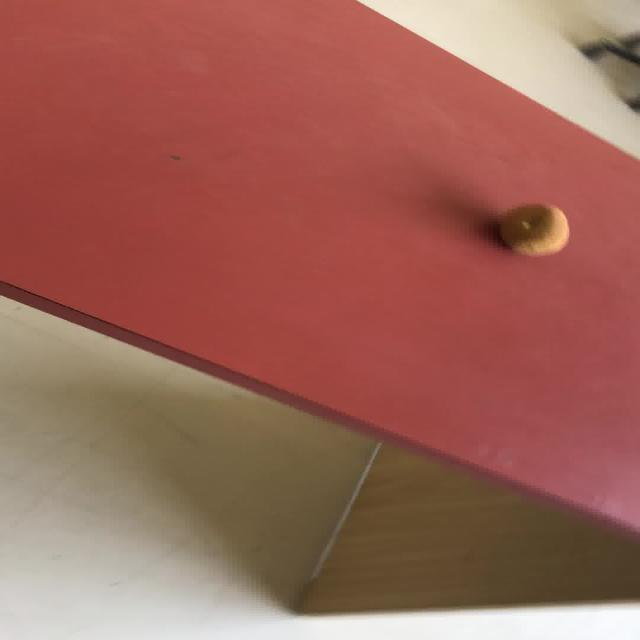kiwi: (497, 202, 570, 257)
